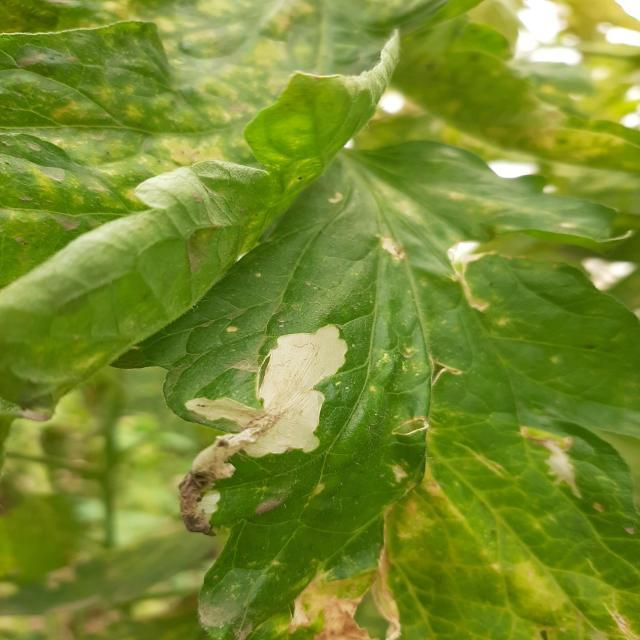Tuta absoluta: (126, 301, 390, 544)
